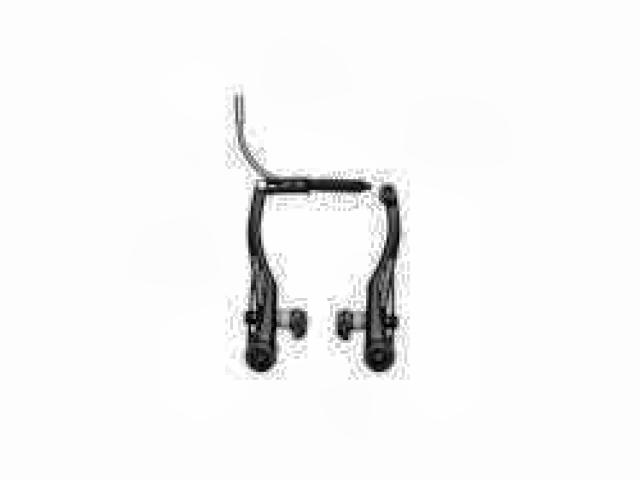rim_brake: (242, 172, 403, 379)
